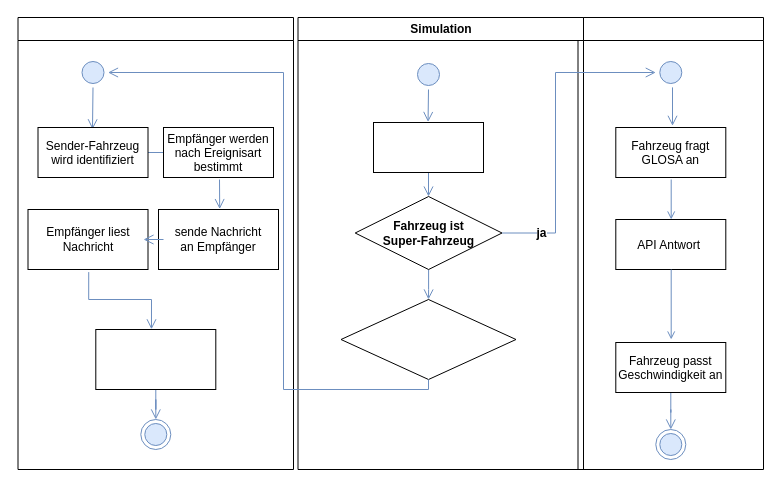
The diagram is 781 pixels wide and 487 high, and some of its shapes have lost their labels. The box of each missing label's shape, as (x1, y1, x2, y2) in pixels:
Ereignis (event) tritt ein: (340, 298, 516, 380)
Fahrzeuge erscheinen: (372, 122, 484, 172)
Reaktion gemäß Definition: (95, 328, 216, 390)
vehicle-to-infrastructure: (577, 16, 764, 470)
vehicle-to-vehicle: (17, 16, 294, 470)
